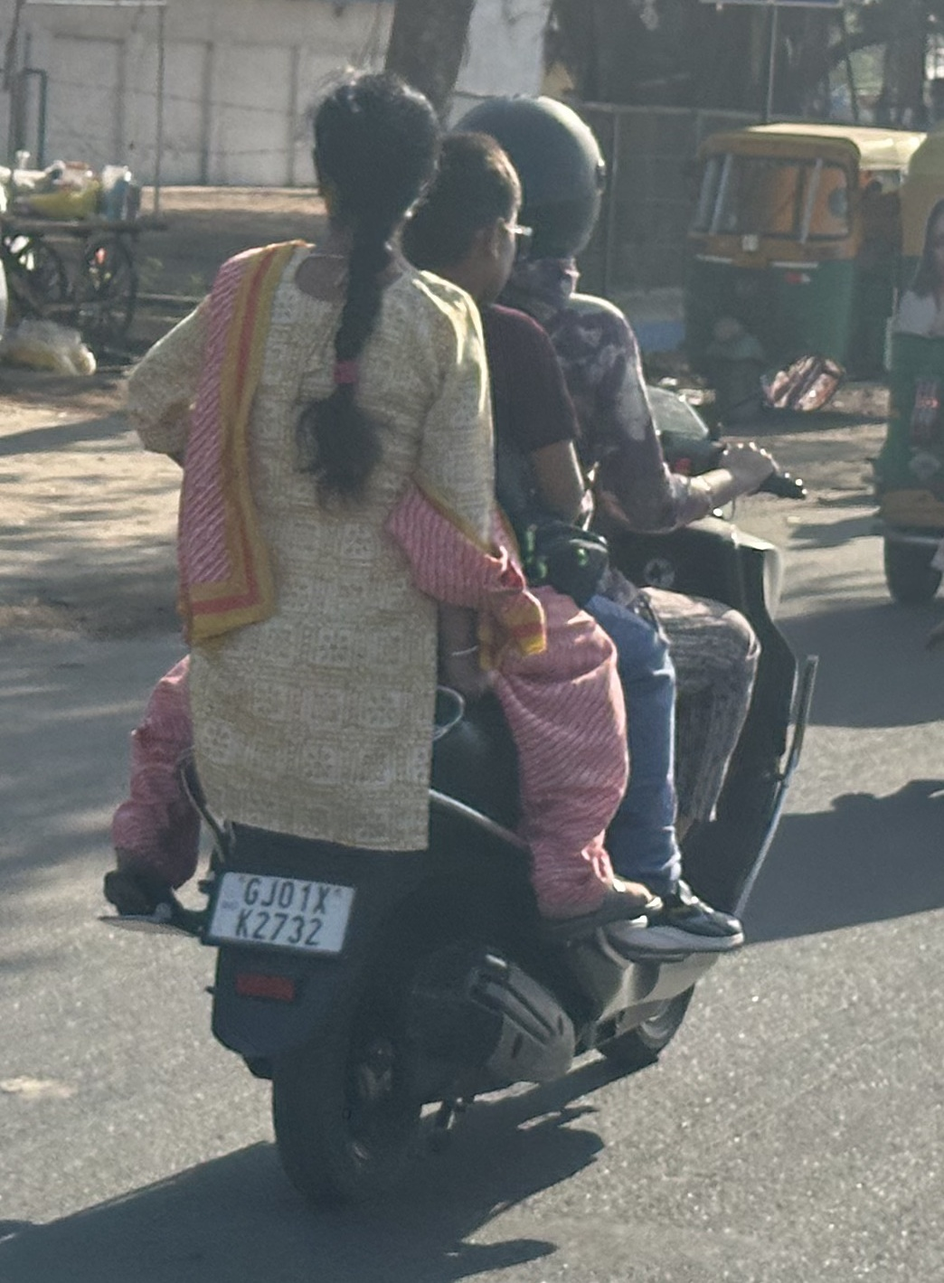BikeWithRider: (81, 57, 833, 1232)
Helmet: (448, 80, 617, 272)
NoHelmet: (294, 61, 450, 261), (392, 123, 535, 311)
